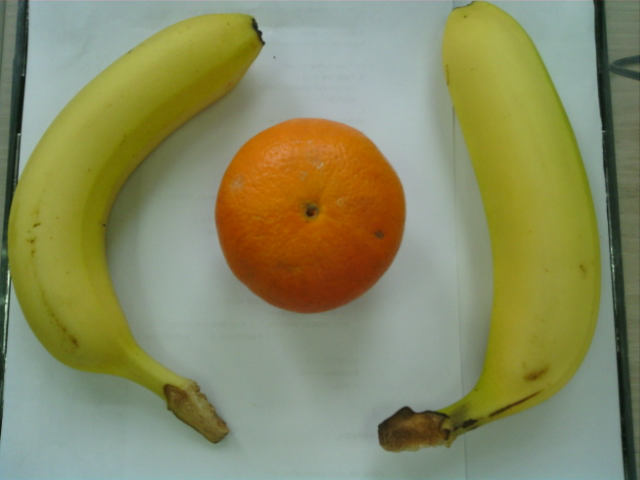normal_banana: (1, 14, 258, 427), (438, 7, 603, 456)
normal_orange: (215, 115, 407, 319)
